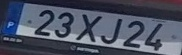2: (31, 6, 57, 37), (121, 18, 146, 50)
3: (52, 10, 75, 39)
4: (142, 21, 164, 51)
J: (99, 16, 124, 44)
X: (74, 12, 103, 43)
